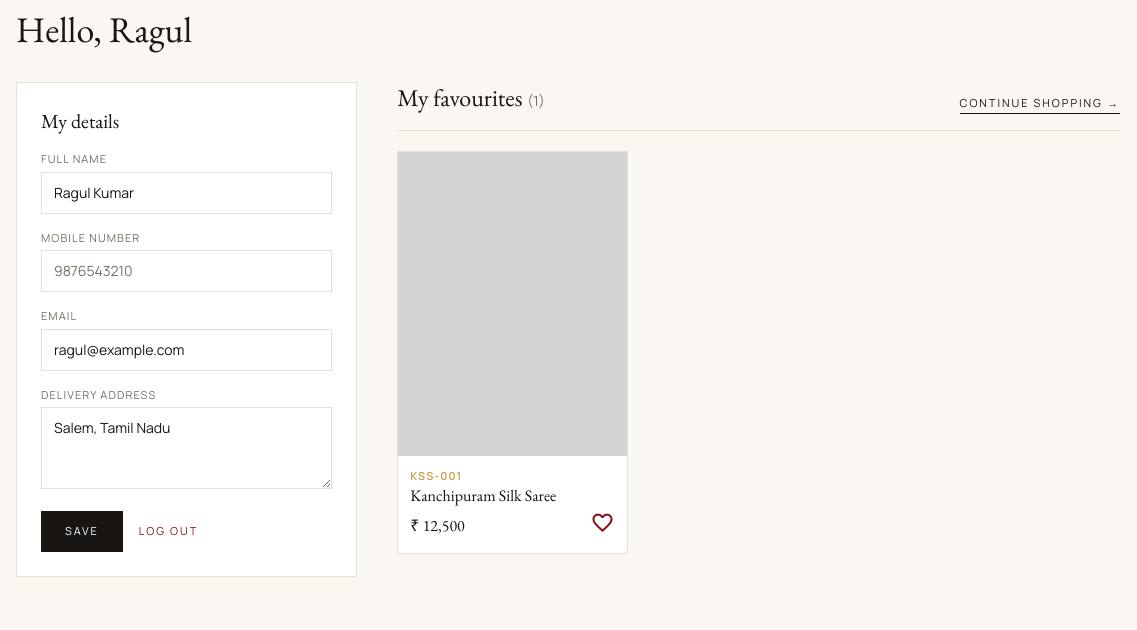
Test: AccountView › shows an error when saving profile changes fails
Step 1. Click the button "Save" → [82, 531], box [41,511,123,552]
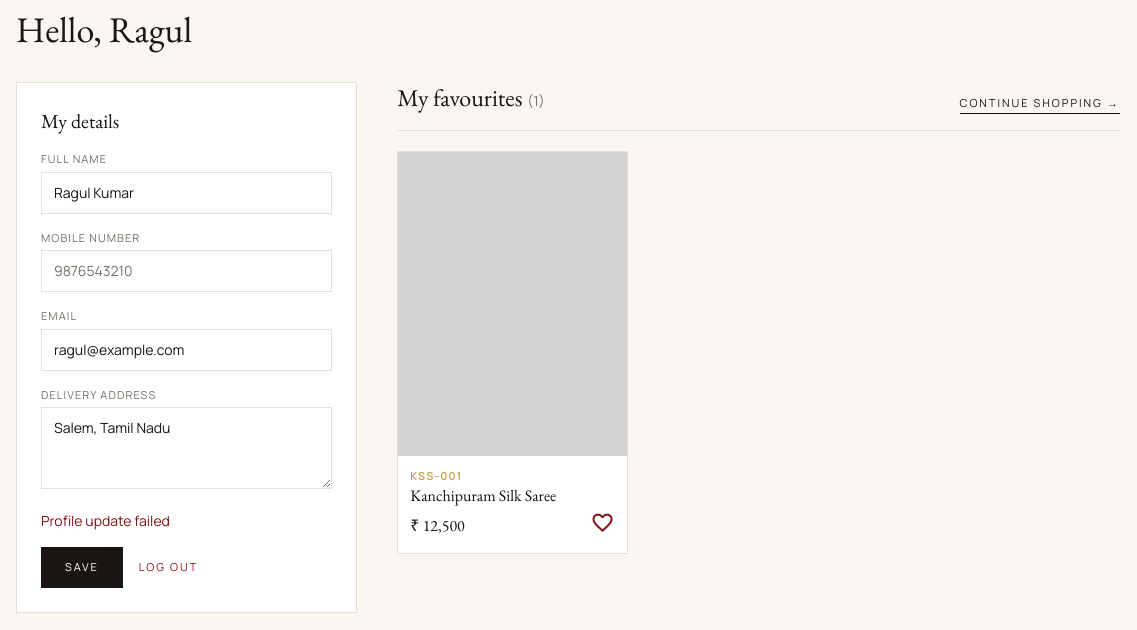
Result: the text "Profile update failed" is shown at [41,511,170,530]
